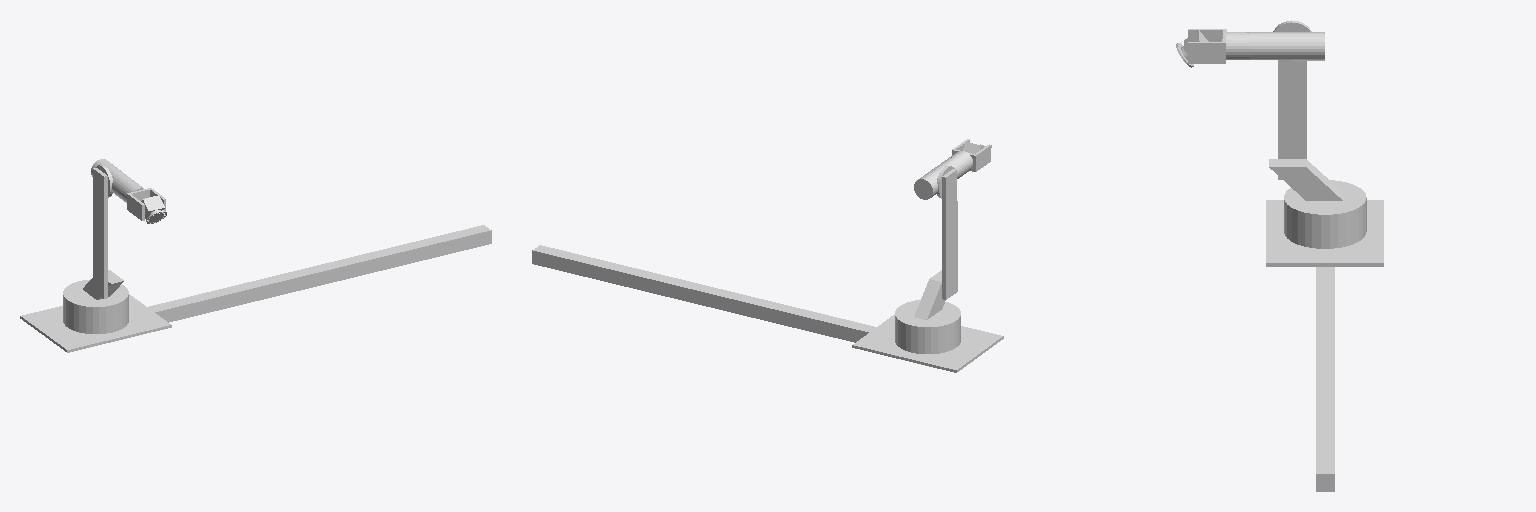
robot.urdf — Assemblage_GIT:
<?xml version="1.0" encoding="utf-8"?>
<!-- This URDF was automatically created by SolidWorks to URDF Exporter! Originally created by Stephen Brawner (brawner@gmail.com) 
     Commit Version: 1.6.0-4-g7f85cfe  Build Version: 1.6.7995.38578
     For more information, please see http://wiki.ros.org/sw_urdf_exporter -->
<robot
  name="Assemblage_GIT">
  <link
    name="Base">
    <inertial>
      <origin
        xyz="3 0.1 0.1"
        rpy="0 0 0" />
      <mass
        value="240" />
      <inertia
        ixx="1.6"
        ixy="1.48029736616688E-15"
        ixz="9.99200722162643E-16"
        iyy="720.8"
        iyz="1.34845838199263E-16"
        izz="720.8" />
    </inertial>
    <visual>
      <origin
        xyz="0 0 0"
        rpy="0 0 0" />
      <geometry>
        <mesh
          filename="package://Assemblage_GIT/meshes/Base.STL" />
      </geometry>
      <material
        name="">
        <color
          rgba="0.894117647058823 0.894117647058823 0.894117647058823 1" />
      </material>
    </visual>
    <collision>
      <origin
        xyz="0 0 0"
        rpy="0 0 0" />
      <geometry>
        <mesh
          filename="package://Assemblage_GIT/meshes/Base.STL" />
      </geometry>
    </collision>
  </link>
  <link
    name="Prismatic">
    <inertial>
      <origin
        xyz="-2.22044604925031E-16 0.165621875375608 0.8"
        rpy="0 0 0" />
      <mass
        value="323.363474910333" />
      <inertia
        ixx="35.0152942345691"
        ixy="-1.52718561974597E-15"
        ixz="1.23700575899238E-15"
        iyy="51.0334132252024"
        iyz="3.11025874903907E-15"
        izz="28.3652942345691" />
    </inertial>
    <visual>
      <origin
        xyz="0 0 0"
        rpy="0 0 0" />
      <geometry>
        <mesh
          filename="package://Assemblage_GIT/meshes/Prismatic.STL" />
      </geometry>
      <material
        name="">
        <color
          rgba="0.894117647058823 0.894117647058823 0.894117647058823 1" />
      </material>
    </visual>
    <collision>
      <origin
        xyz="0 0 0"
        rpy="0 0 0" />
      <geometry>
        <mesh
          filename="package://Assemblage_GIT/meshes/Prismatic.STL" />
      </geometry>
    </collision>
  </link>
  <joint
    name="Prismatic"
    type="prismatic">
    <origin
      xyz="2.17893779654818 0.1 0.22"
      rpy="1.5707963267949 0 1.5707963267949" />
    <parent
      link="Base" />
    <child
      link="Prismatic" />
    <axis
      xyz="0 0 -1" />
    <limit
      lower="1"
      upper="5"
      effort="1000"
      velocity="10" />
  </joint>
  <link
    name="Joint_1">
    <inertial>
      <origin
        xyz="-0.201185255431564 -0.00317071339103703 -0.190957402554279"
        rpy="0 0 0" />
      <mass
        value="32.0753982236863" />
      <inertia
        ixx="0.533880669264814"
        ixy="-0.0122833353487527"
        ixz="-0.425816912258502"
        iyy="1.27893129510876"
        iyz="-0.00724529594361739"
        izz="0.962055785951876" />
    </inertial>
    <visual>
      <origin
        xyz="0 0 0"
        rpy="0 0 0" />
      <geometry>
        <mesh
          filename="package://Assemblage_GIT/meshes/Joint_1.STL" />
      </geometry>
      <material
        name="">
        <color
          rgba="0.894117647058823 0.894117647058823 0.894117647058823 1" />
      </material>
    </visual>
    <collision>
      <origin
        xyz="0 0 0"
        rpy="0 0 0" />
      <geometry>
        <mesh
          filename="package://Assemblage_GIT/meshes/Joint_1.STL" />
      </geometry>
    </collision>
  </link>
  <joint
    name="Joint_1"
    type="revolute">
    <origin
      xyz="0 0.43 0.8"
      rpy="1.5707963267949 0 0" />
    <parent
      link="Prismatic" />
    <child
      link="Joint_1" />
    <axis
      xyz="0 0 -1" />
    <limit
      lower="-10"
      upper="10"
      effort="1000"
      velocity="10" />
  </joint>
  <link
    name="Joint_2">
    <inertial>
      <origin
        xyz="0.000532098243666115 0.749999811247616 -0.020239837725309"
        rpy="0 0 0" />
      <mass
        value="32.0921239199482" />
      <inertia
        ixx="8.58396152884627"
        ixy="-0.00591112735442284"
        ixz="3.33066907387547E-16"
        iyy="0.252150211345469"
        iyz="4.69999251101072E-16"
        izz="8.81706540857474" />
    </inertial>
    <visual>
      <origin
        xyz="0 0 0"
        rpy="0 0 0" />
      <geometry>
        <mesh
          filename="package://Assemblage_GIT/meshes/Joint_2.STL" />
      </geometry>
      <material
        name="">
        <color
          rgba="0.894117647058823 0.894117647058823 0.894117647058823 1" />
      </material>
    </visual>
    <collision>
      <origin
        xyz="0 0 0"
        rpy="0 0 0" />
      <geometry>
        <mesh
          filename="package://Assemblage_GIT/meshes/Joint_2.STL" />
      </geometry>
    </collision>
  </link>
  <joint
    name="Joint_2"
    type="revolute">
    <origin
      xyz="-0.348511314580004 -0.114629244129573 -0.290000000000002"
      rpy="-1.5707963267949 0 0.0132544062233252" />
    <parent
      link="Joint_1" />
    <child
      link="Joint_2" />
    <axis
      xyz="0 0 -1" />
    <limit
      lower="-10"
      upper="10"
      effort="1000"
      velocity="10" />
  </joint>
  <link
    name="Joint_3">
    <inertial>
      <origin
        xyz="-0.0438805311212115 -0.000163837774818765 0.164653297068235"
        rpy="0 0 0" />
      <mass
        value="62.8731904782889" />
      <inertia
        ixx="0.864237874602816"
        ixy="-0.00994286201552344"
        ixz="0.0423405079213936"
        iyy="3.5280962464749"
        iyz="0.000155899617816418"
        izz="3.49607881720287" />
    </inertial>
    <visual>
      <origin
        xyz="0 0 0"
        rpy="0 0 0" />
      <geometry>
        <mesh
          filename="package://Assemblage_GIT/meshes/Joint_3.STL" />
      </geometry>
      <material
        name="">
        <color
          rgba="0.894117647058823 0.894117647058823 0.894117647058823 1" />
      </material>
    </visual>
    <collision>
      <origin
        xyz="0 0 0"
        rpy="0 0 0" />
      <geometry>
        <mesh
          filename="package://Assemblage_GIT/meshes/Joint_3.STL" />
      </geometry>
    </collision>
  </link>
  <joint
    name="Joint_3"
    type="revolute">
    <origin
      xyz="0.001064196487343 1.49999962249532 0"
      rpy="0 0 0" />
    <parent
      link="Joint_2" />
    <child
      link="Joint_3" />
    <axis
      xyz="0 0 -1" />
    <limit
      lower="-10"
      upper="10"
      effort="1000"
      velocity="10" />
  </joint>
  <link
    name="Joint_4">
    <inertial>
      <origin
        xyz="-0.000722723684908888 0.000204490611337815 0.241810541964059"
        rpy="0 0 0" />
      <mass
        value="28.693465533855" />
      <inertia
        ixx="0.993830563429928"
        ixy="0.0482487799006855"
        ixz="0.00680581153923762"
        iyy="1.15398649606944"
        iyz="-0.00192566618581688"
        izz="0.49051973665912" />
    </inertial>
    <visual>
      <origin
        xyz="0 0 0"
        rpy="0 0 0" />
      <geometry>
        <mesh
          filename="package://Assemblage_GIT/meshes/Joint_4.STL" />
      </geometry>
      <material
        name="">
        <color
          rgba="0.894117647058823 0.894117647058823 0.894117647058823 1" />
      </material>
    </visual>
    <collision>
      <origin
        xyz="0 0 0"
        rpy="0 0 0" />
      <geometry>
        <mesh
          filename="package://Assemblage_GIT/meshes/Joint_4.STL" />
      </geometry>
    </collision>
  </link>
  <joint
    name="Joint_4"
    type="revolute">
    <origin
      xyz="-0.43999693572805 -0.00164211751305265 0.18"
      rpy="1.5707963267949 1.29634469252949 -1.5670642328742" />
    <parent
      link="Joint_3" />
    <child
      link="Joint_4" />
    <axis
      xyz="0 0 -1" />
    <limit
      lower="-10"
      upper="10"
      effort="1000"
      velocity="10" />
  </joint>
  <link
    name="Joint_5">
    <inertial>
      <origin
        xyz="-0.00129445346618018 -0.000967975037125257 -0.116847256480309"
        rpy="0 0 0" />
      <mass
        value="10" />
      <inertia
        ixx="0.083885257498887"
        ixy="-0.00071160789352205"
        ixz="2.39118755384304E-05"
        iyy="0.0843047454704523"
        iyz="1.78809815995417E-05"
        izz="0.0681504164214365" />
    </inertial>
    <visual>
      <origin
        xyz="0 0 0"
        rpy="0 0 0" />
      <geometry>
        <mesh
          filename="package://Assemblage_GIT/meshes/Joint_5.STL" />
      </geometry>
      <material
        name="">
        <color
          rgba="0.894117647058823 0.894117647058823 0.894117647058823 1" />
      </material>
    </visual>
    <collision>
      <origin
        xyz="0 0 0"
        rpy="0 0 0" />
      <geometry>
        <mesh
          filename="package://Assemblage_GIT/meshes/Joint_5.STL" />
      </geometry>
    </collision>
  </link>
  <joint
    name="Joint_5"
    type="revolute">
    <origin
      xyz="-0.129895511100906 0.0367775030537148 0.570000000000001"
      rpy="-1.57079632679495 1.56710919639746 1.29973525040208" />
    <parent
      link="Joint_4" />
    <child
      link="Joint_5" />
    <axis
      xyz="0 0 -1" />
    <limit
      lower="-10"
      upper="10"
      effort="1000"
      velocity="10" />
  </joint>
  <link
    name="Joint_6">
    <inertial>
      <origin
        xyz="6.67172292053708E-05 -3.34955209901899E-06 0.034738732854403"
        rpy="0 0 0" />
      <mass
        value="2.40488917632299" />
      <inertia
        ixx="0.0101582394363205"
        ixy="-1.0695468797245E-08"
        ixz="-3.25087052275419E-06"
        iyy="0.0101580269382249"
        iyz="1.63210617208683E-07"
        izz="0.0186372301596084" />
    </inertial>
    <visual>
      <origin
        xyz="0 0 0"
        rpy="0 0 0" />
      <geometry>
        <mesh
          filename="package://Assemblage_GIT/meshes/Joint_6.STL" />
      </geometry>
      <material
        name="">
        <color
          rgba="0.894117647058823 0.894117647058823 0.894117647058823 1" />
      </material>
    </visual>
    <collision>
      <origin
        xyz="0 0 0"
        rpy="0 0 0" />
      <geometry>
        <mesh
          filename="package://Assemblage_GIT/meshes/Joint_6.STL" />
      </geometry>
    </collision>
  </link>
  <joint
    name="Joint_6"
    type="revolute">
    <origin
      xyz="-0.0880935022420686 -0.0658751460167436 -0.114999999999997"
      rpy="-1.5707963267949 -0.0221512243543905 2.21287939391435" />
    <parent
      link="Joint_5" />
    <child
      link="Joint_6" />
    <axis
      xyz="0 0 1" />
    <limit
      lower="-10"
      upper="10"
      effort="1000"
      velocity="10" />
  </joint>
</robot>

--- Facts derived from the render (not from the file) ---
Views: 3 orthographic renders of the robot side by side, from view 1: azimuth 30°, elevation 25°; view 2: azimuth 150°, elevation 25°; view 3: azimuth 270°, elevation 25°.
Robot: Assemblage_GIT — 8 links, 7 joints (6 revolute, 1 prismatic); root link Base; default pose: all joints at 0 but 1 set to mid-range because 0 is outside their limits (Prismatic = 3).
Visible links, largest first — view 1: Base, Prismatic, Joint_2, Joint_4, Joint_3; view 2: Base, Prismatic, Joint_2, Joint_3, Joint_1, Joint_4; view 3: Prismatic, Base, Joint_2, Joint_3, Joint_1, Joint_4.
Link boxes in pixels (x1=…): Base: x1=148, y1=225, x2=491, y2=322; Prismatic: x1=20, y1=279, x2=171, y2=352; Joint_2: x1=93, y1=168, x2=107, y2=298; Joint_4: x1=120, y1=181, x2=165, y2=220; Joint_3: x1=91, y1=159, x2=134, y2=198; Base: x1=532, y1=245, x2=875, y2=342; Prismatic: x1=852, y1=300, x2=1003, y2=372; Joint_2: x1=942, y1=169, x2=957, y2=299; Joint_3: x1=914, y1=157, x2=963, y2=199; Joint_1: x1=914, y1=270, x2=945, y2=319; Joint_4: x1=949, y1=139, x2=991, y2=176; Prismatic: x1=1266, y1=180, x2=1383, y2=266; Base: x1=1316, y1=267, x2=1334, y2=491; Joint_2: x1=1278, y1=24, x2=1306, y2=179; Joint_3: x1=1250, y1=20, x2=1324, y2=60; Joint_1: x1=1269, y1=159, x2=1343, y2=200; Joint_4: x1=1188, y1=29, x2=1249, y2=63.
Size in the robot's own frame: 6.82 by 2.21 by 2.66 metres.
8 mesh visuals loaded from 8 distinct referenced files (8 binary STL).
